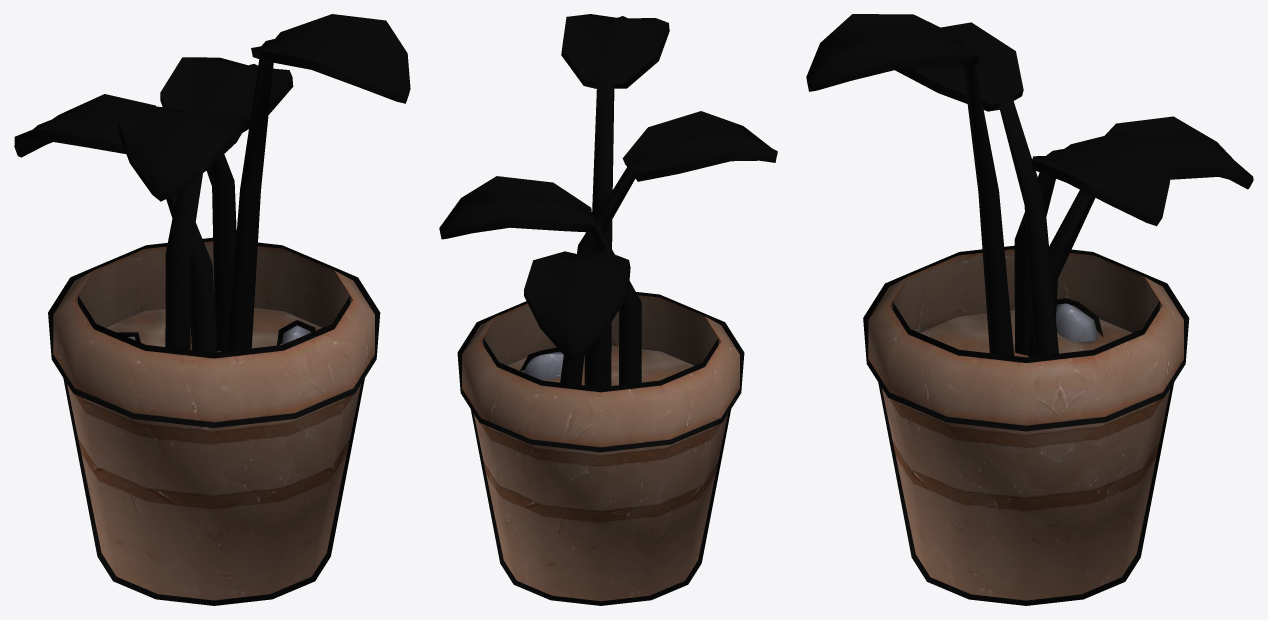
Rendered from Plant 1.fbx.
The picture shows the model from 3 angles, left to right: view 1: azimuth 30°, elevation 25°; view 2: azimuth 150°, elevation 25°; view 3: azimuth 270°, elevation 25°; orthographic projection. The views are drawn at different scales.
Visible parts, largest first — view 1: Plant 1; view 2: Plant 1; view 3: Plant 1.
Boxes of the visible parts, left/top/right/bottom form: Plant 1: left=14, top=14, right=410, bottom=605; Plant 1: left=439, top=14, right=777, bottom=605; Plant 1: left=806, top=14, right=1253, bottom=605.
Size of the model in its own units: 28.51 by 52.88 by 39.09.
